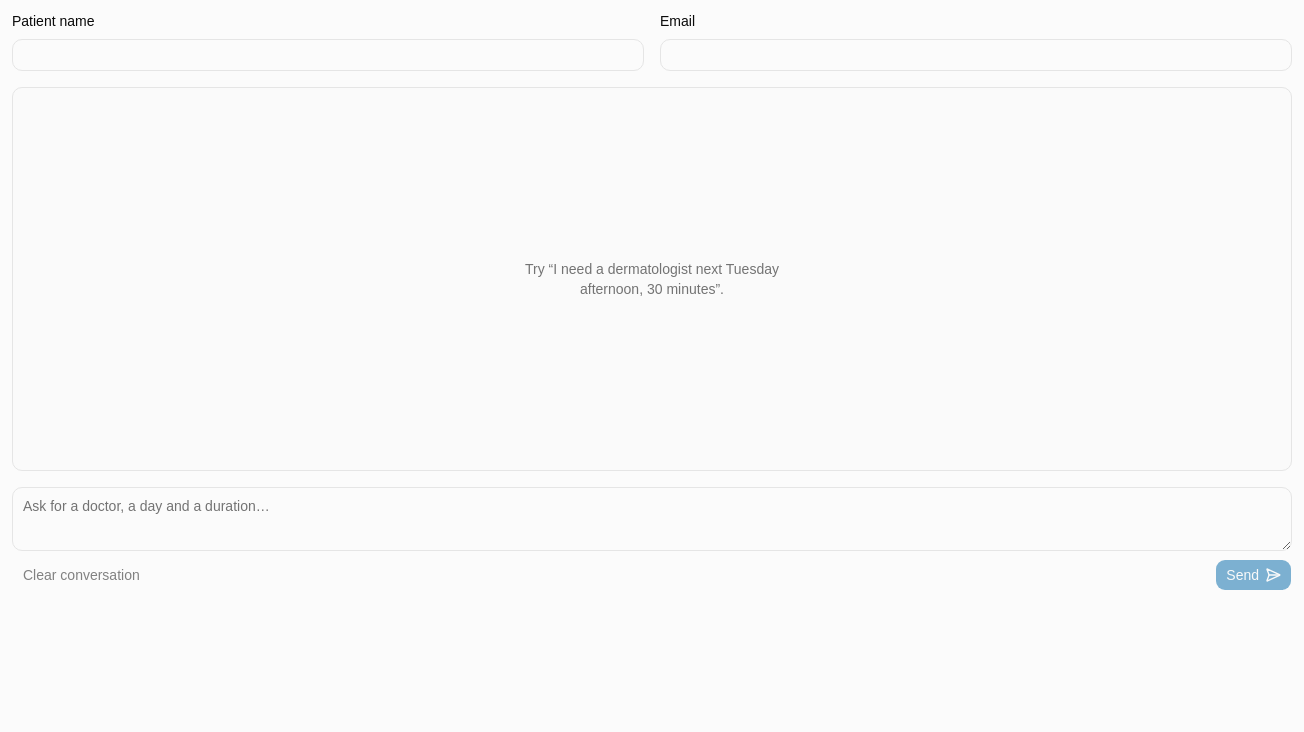
Test: AssistantPanel › shows request errors inline
This screenshot has width=1304, height=732.
Type "Hello" into the text box named "Message" at x=652, y=519, box x1=12 y1=487 x2=1292 y2=551
Then press Enter
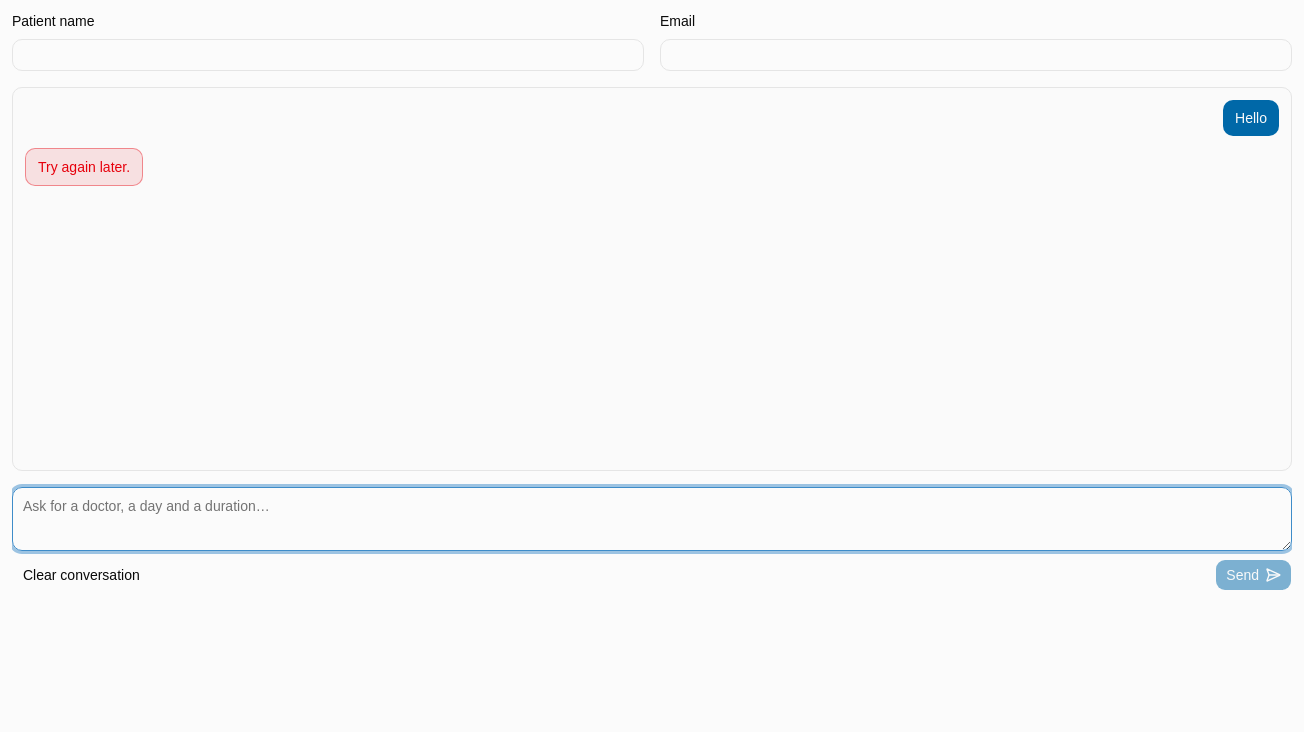
Result: the text "Try again later." is shown at x1=25 y1=148 x2=143 y2=186
